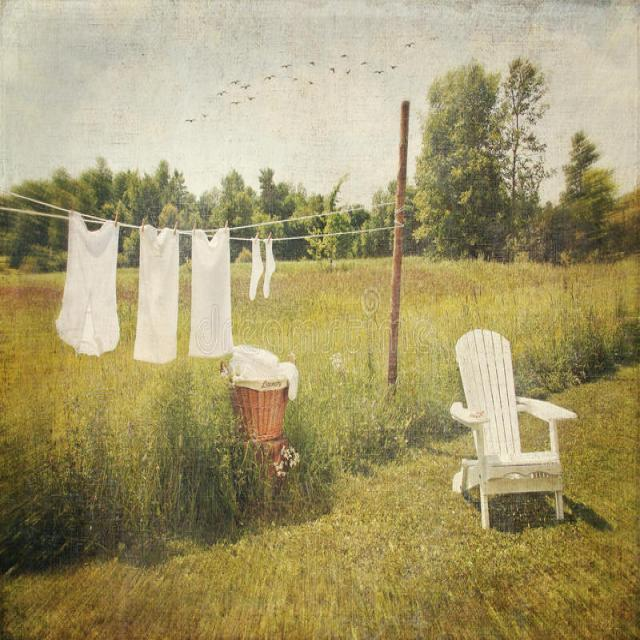clothes: (55, 208, 123, 356), (130, 224, 183, 372), (189, 218, 236, 366), (247, 228, 275, 304)
